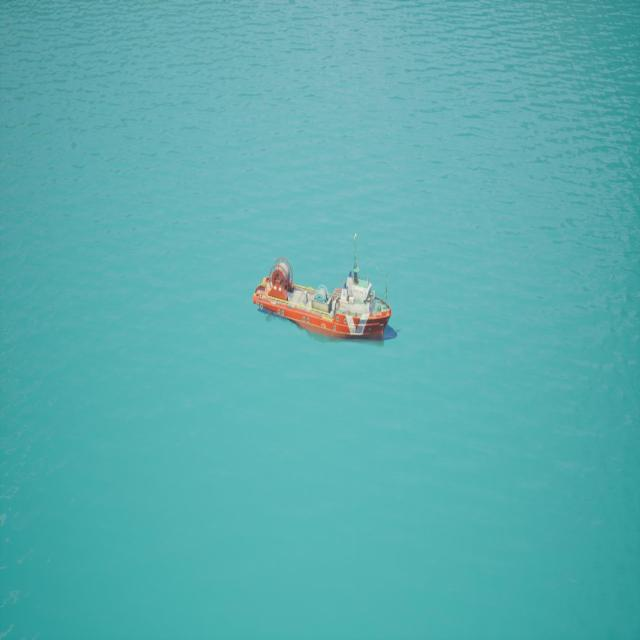tug boat: (238, 211, 413, 403)
